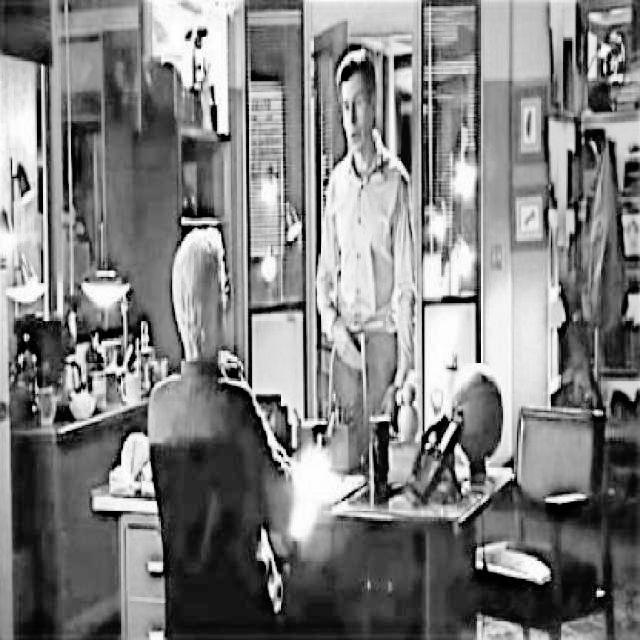Person: (143, 223, 294, 640), (318, 38, 417, 449)
